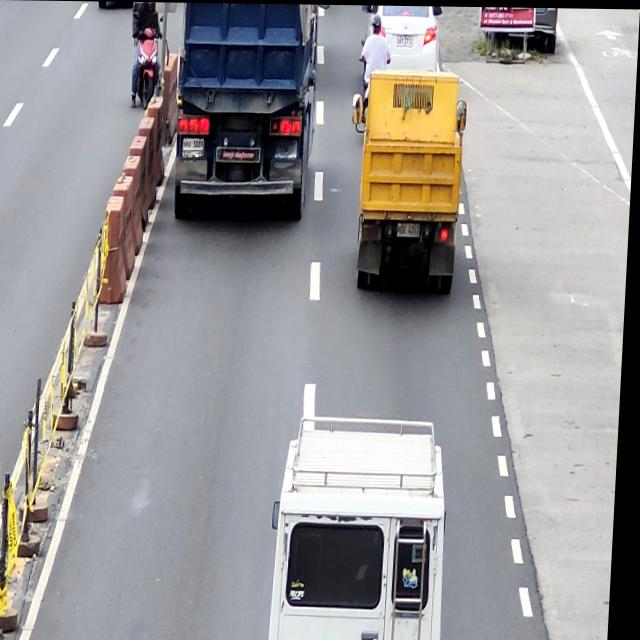Car: (273, 410, 457, 640), (360, 4, 442, 76)
License-Plate: (398, 221, 424, 236), (183, 136, 206, 151), (396, 35, 414, 47)
Truck: (175, 2, 325, 212), (349, 69, 472, 294)
